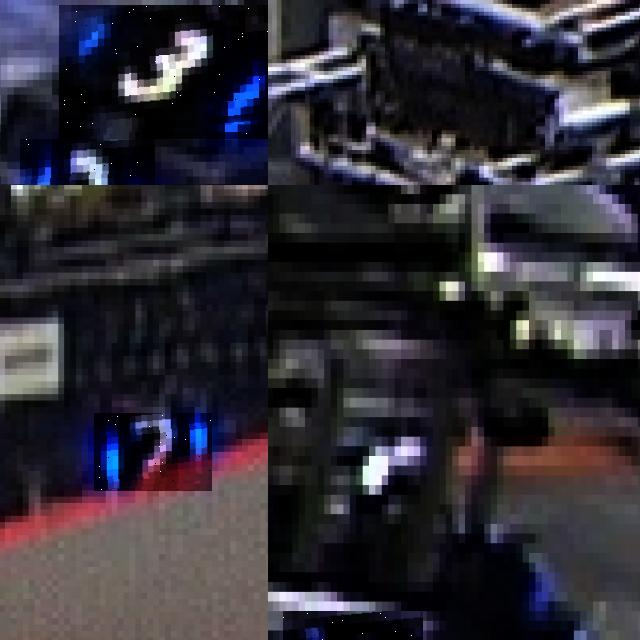B2: (94, 413, 212, 491), (282, 611, 423, 640)
B3: (58, 5, 268, 139), (20, 139, 154, 185)
